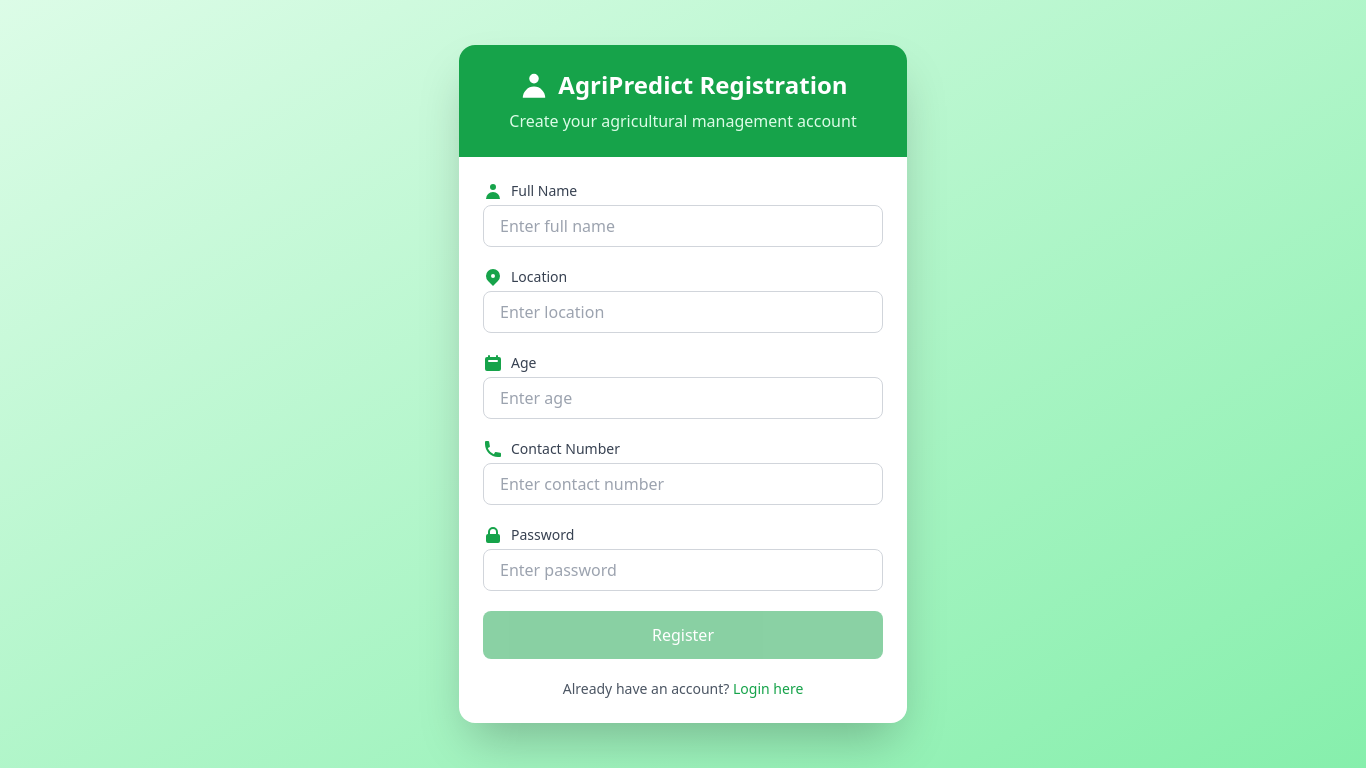
Scenario: Register Component › displays error message when registration fails
Type "John Doe" into the field with placeholder "Enter full name" at coordinates (683, 226), box [483,205,883,247]
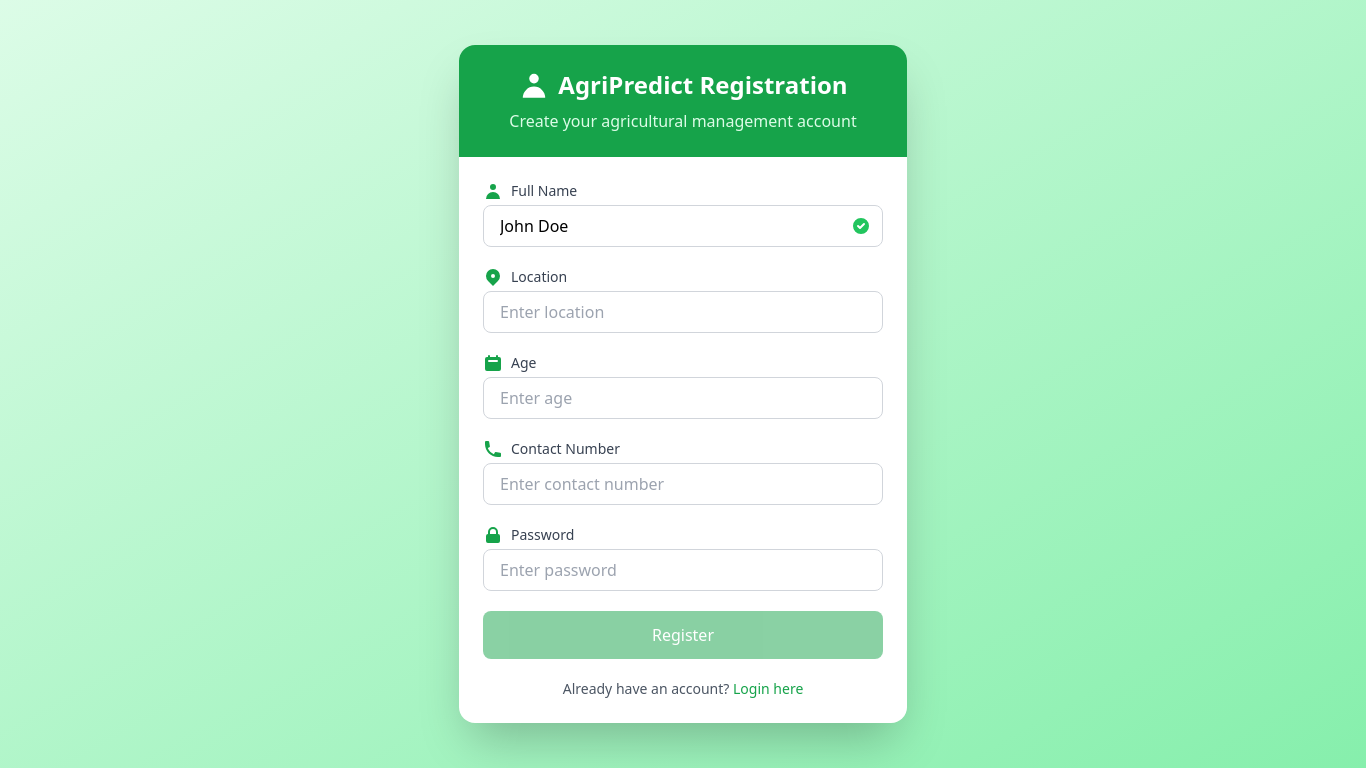
Type "Farmville" into the field with placeholder "Enter location" at coordinates (683, 312), box [483,291,883,333]
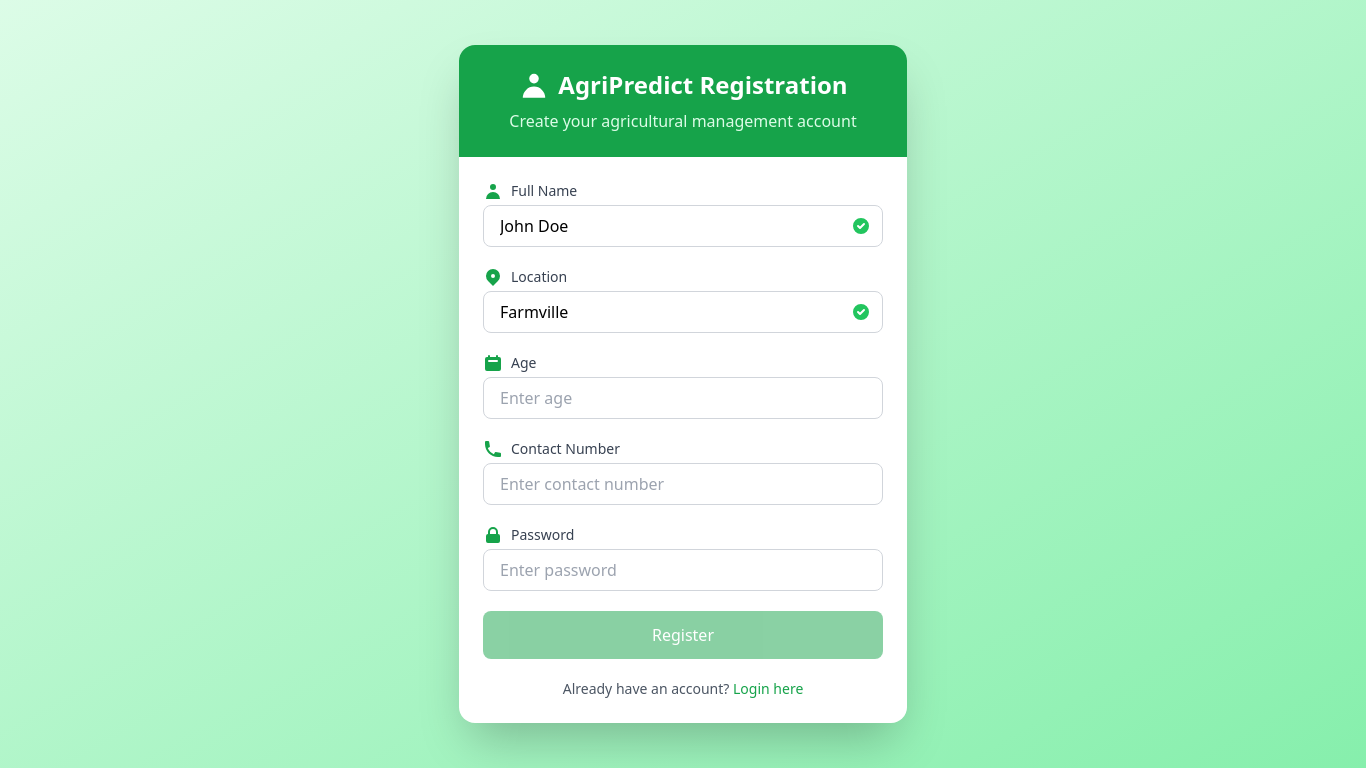
Type "30" into the number field with placeholder "Enter age" at coordinates (683, 398), box [483,377,883,419]
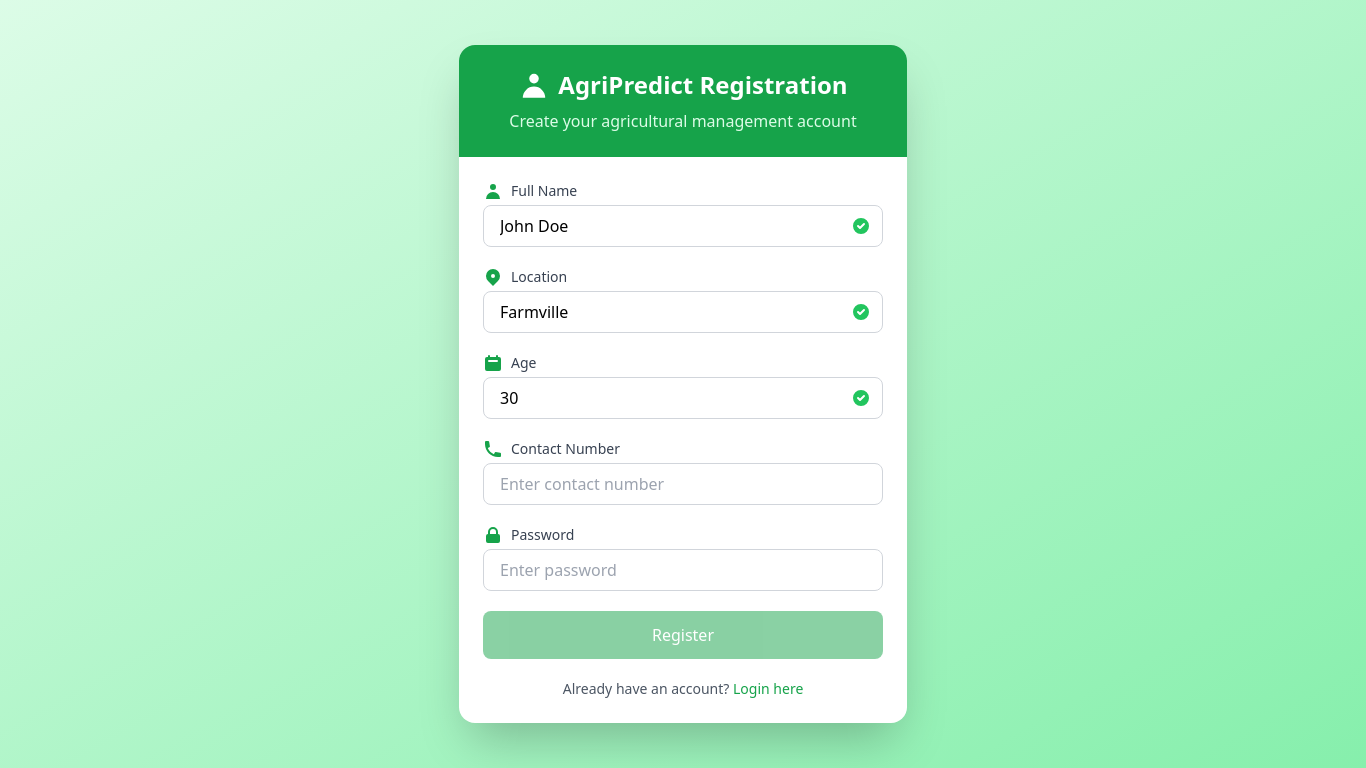
Type "9876543210" into the field with placeholder "Enter contact number" at coordinates (683, 484), box [483,463,883,505]
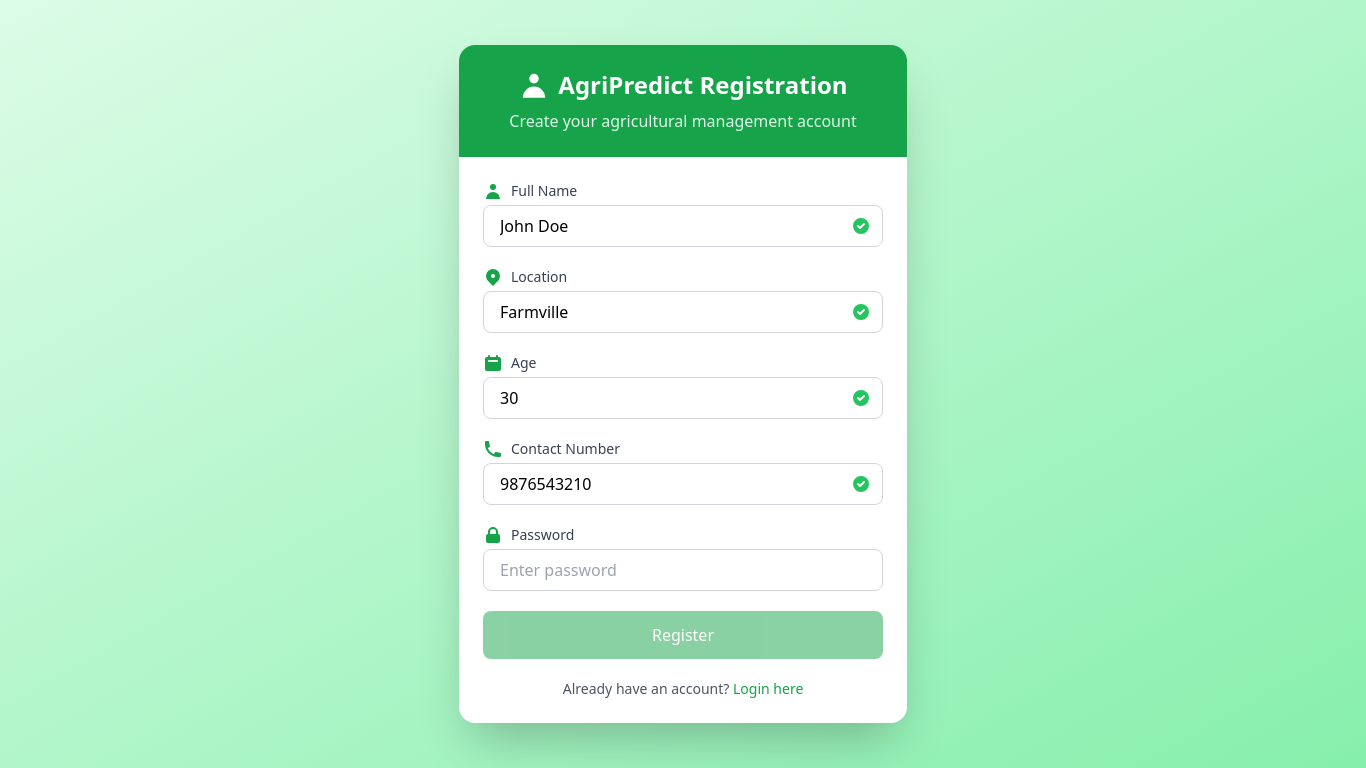
Type "Password123" into the password field with placeholder "Enter password" at coordinates (683, 570), box [483,549,883,591]
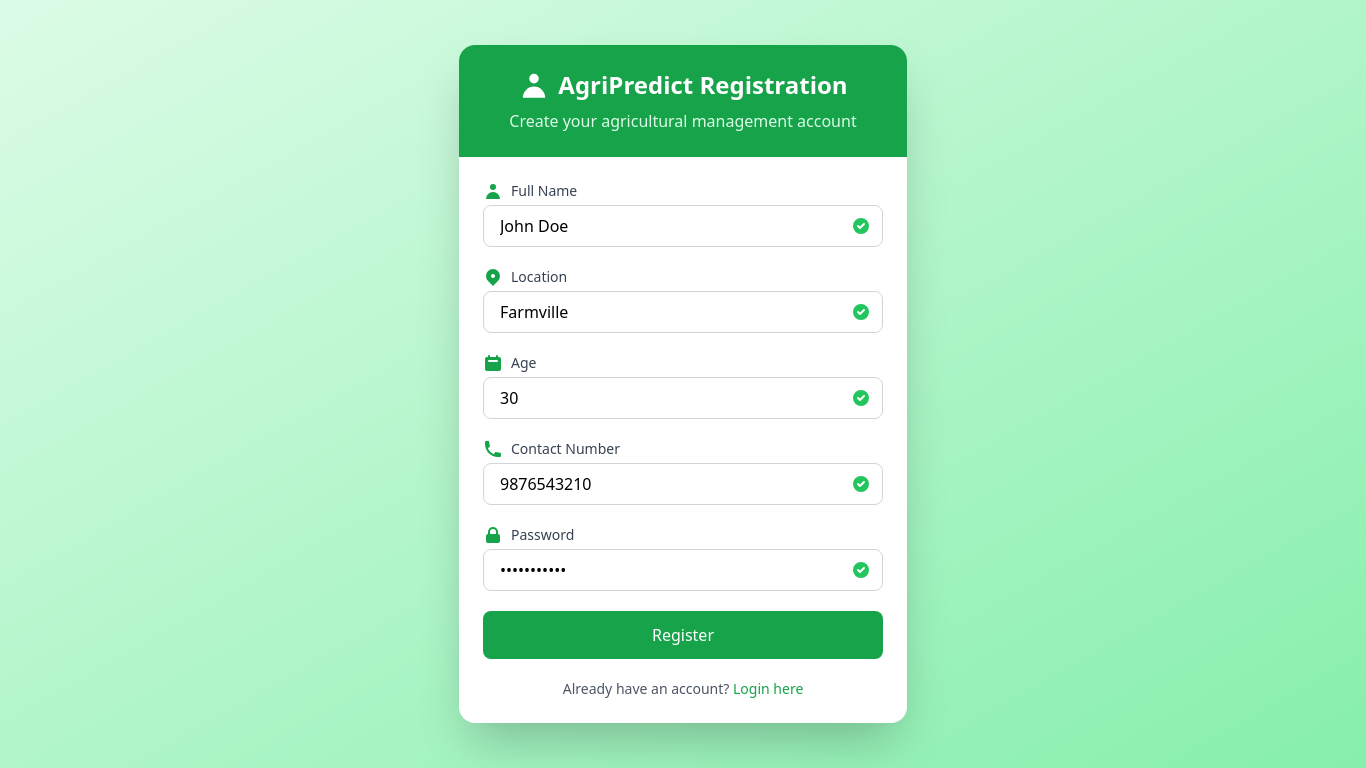
Click the button "Register" at coordinates (683, 635), box [483,611,883,659]
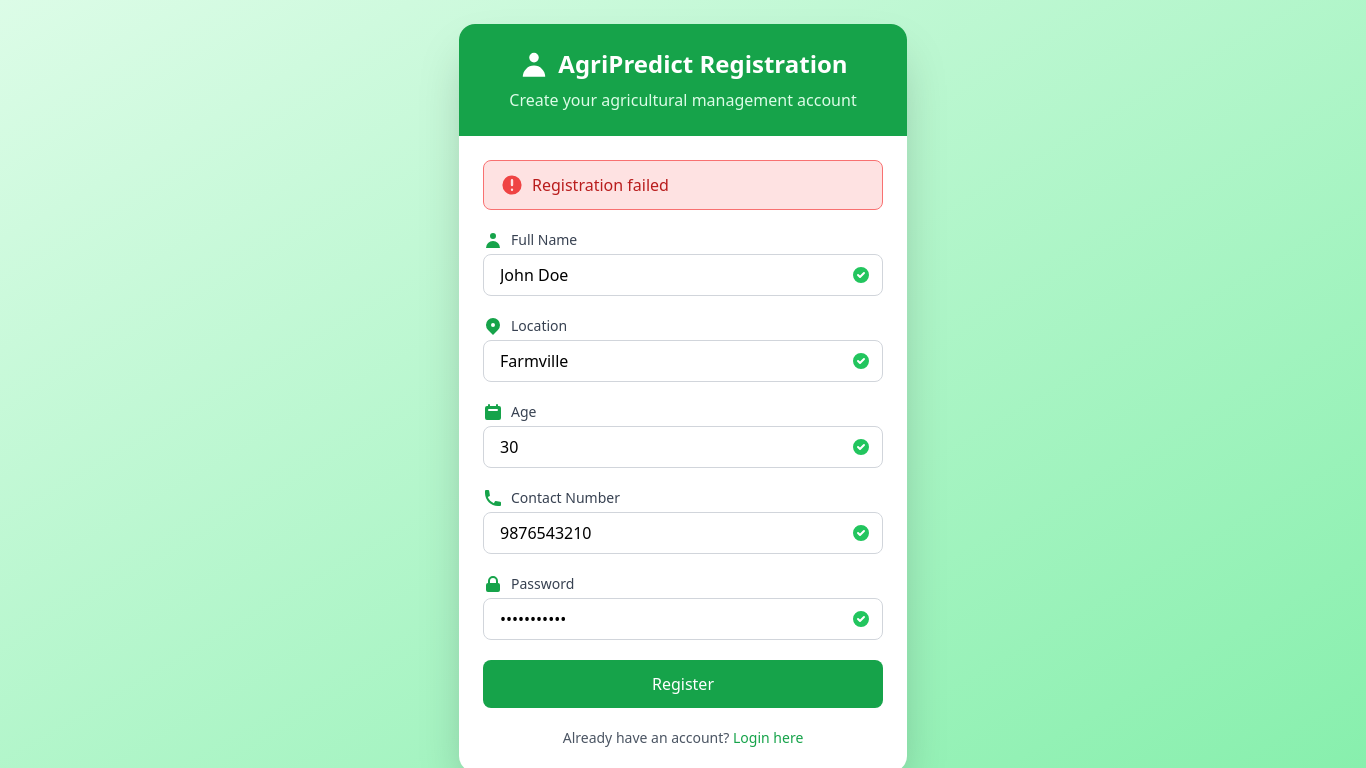
Expected: the text "Registration failed" is shown, [483,160,883,210]
